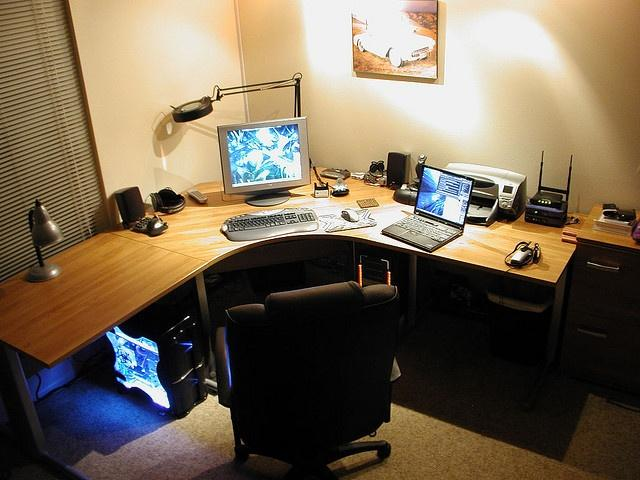AIO PC-Monitor-TV: (216, 115, 310, 196)
Meja: (102, 165, 589, 284), (0, 227, 209, 368)
Printer: (440, 162, 528, 225)
